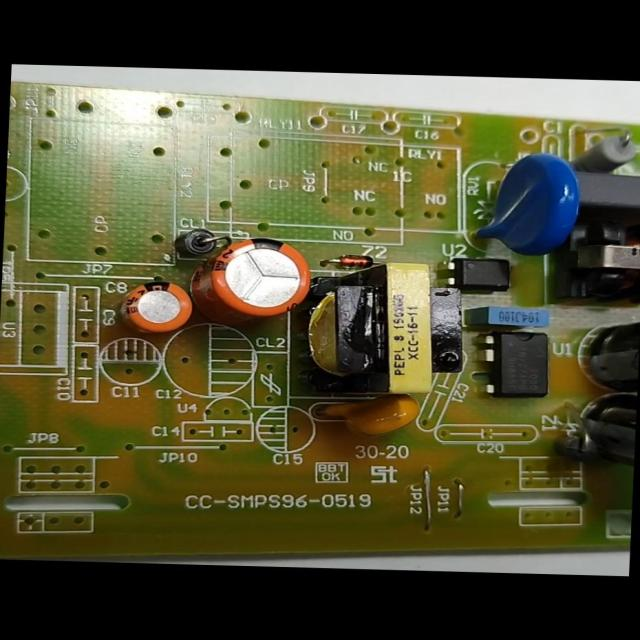Cap1: (184, 228, 321, 326)
Cap2: (116, 276, 198, 334)
Cap3: (572, 304, 639, 396)
Cap4: (567, 392, 636, 481)
MOSFET: (472, 329, 553, 400)
Mov: (466, 149, 584, 258)
Resistor: (572, 127, 639, 179)
Transformer: (286, 254, 443, 401), (553, 208, 639, 300)
